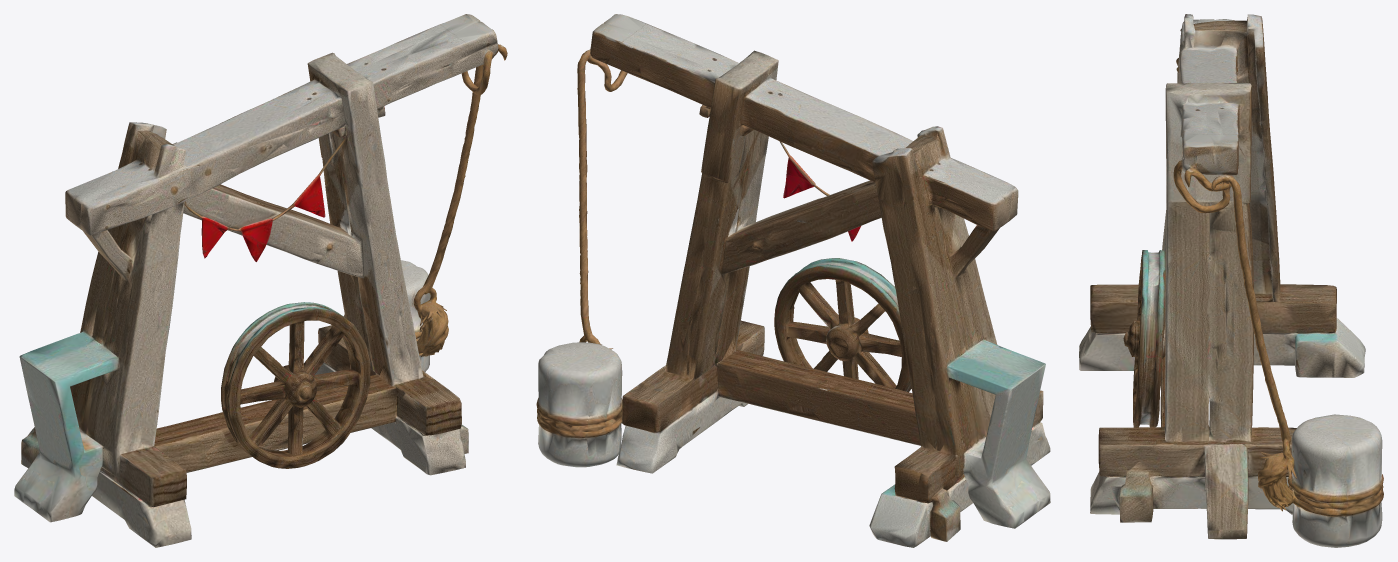
The model's file is sling_quarryCrane.glb.
The picture shows the model from 3 angles, left to right: view 1: azimuth 30°, elevation 25°; view 2: azimuth 150°, elevation 25°; view 3: azimuth 270°, elevation 25°; orthographic projection. The views are drawn at different scales.
Size of the model in its own units: 1.88 by 1.52 by 1.03.
1 material, 1 textured.
